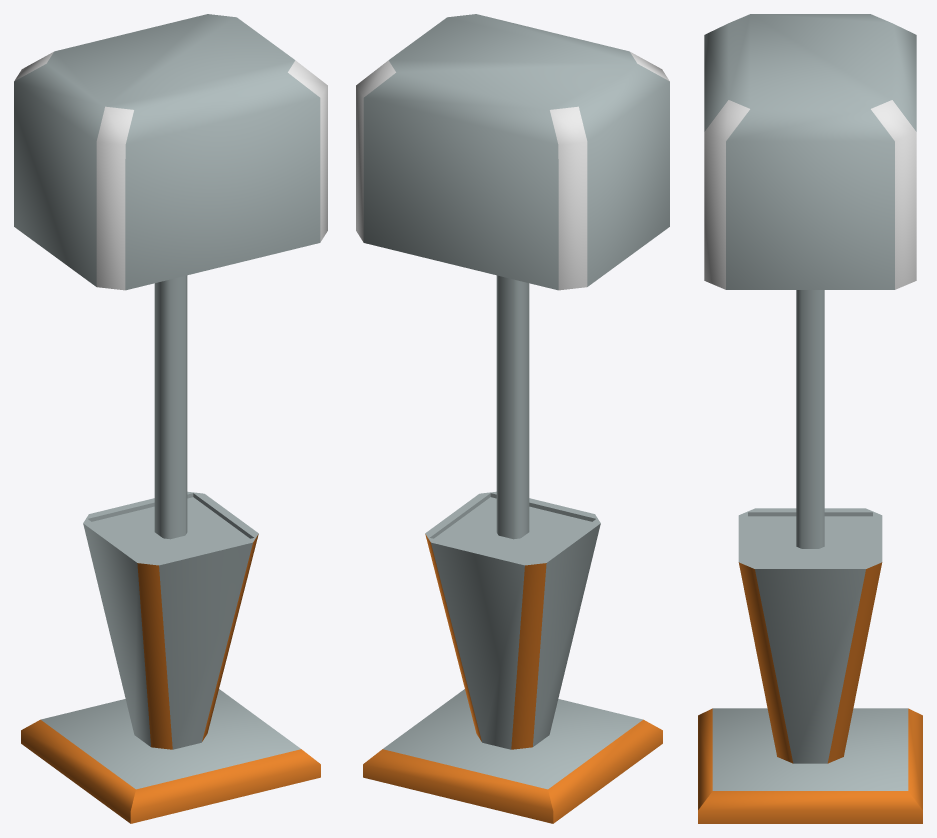
File: Lamp-4.fbx
3 views of the same model, side by side, from view 1: azimuth 30°, elevation 25°; view 2: azimuth 150°, elevation 25°; view 3: azimuth 270°, elevation 25° (orthographic). The views are drawn at different scales.
Parts seen in each view (by area): view 1: Lamp-3-1; view 2: Lamp-3-1; view 3: Lamp-3-1.
Part boxes in pixels (bbox=[...]): Lamp-3-1: bbox=[14, 14, 327, 823]; Lamp-3-1: bbox=[356, 14, 669, 823]; Lamp-3-1: bbox=[698, 14, 922, 823].
Bounding box in the file's own units: 1.17 × 3.37 × 0.9598.
